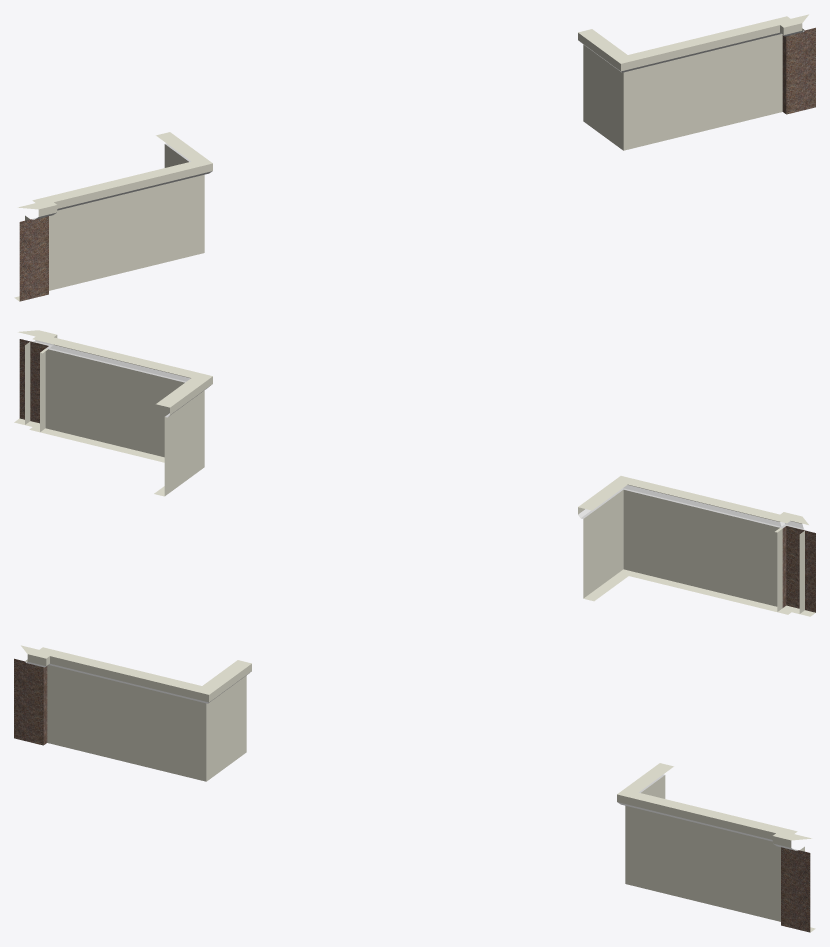
Rendered from gate_floor0.glb.
The picture shows the model from 3 angles, top to bottom: view 1: azimuth 30°, elevation 25°; view 2: azimuth 150°, elevation 25°; view 3: azimuth 330°, elevation 25°; orthographic projection.
Visible parts, largest first — view 1: _C-Component#4 (Loose Mesh).002; view 2: _C-Component#4 (Loose Mesh).002; view 3: _C-Component#4 (Loose Mesh).002.
Part boxes in pixels (x1,y1,x2,y2): _C-Component#4 (Loose Mesh).002: [14, 14, 815, 301]; _C-Component#4 (Loose Mesh).002: [14, 330, 815, 616]; _C-Component#4 (Loose Mesh).002: [14, 645, 815, 932].
Bounding box in the file's own units: 10.25 × 1.11 × 1.04.
12 materials, 4 textured.
